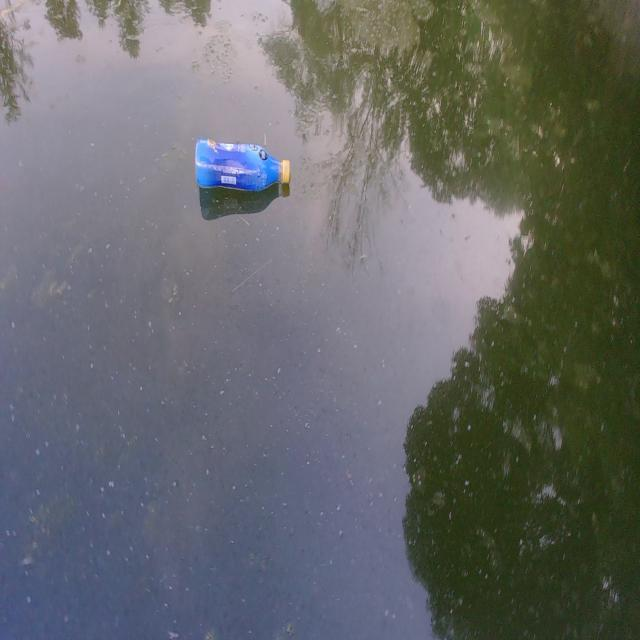Bottle: (186, 131, 298, 206)
